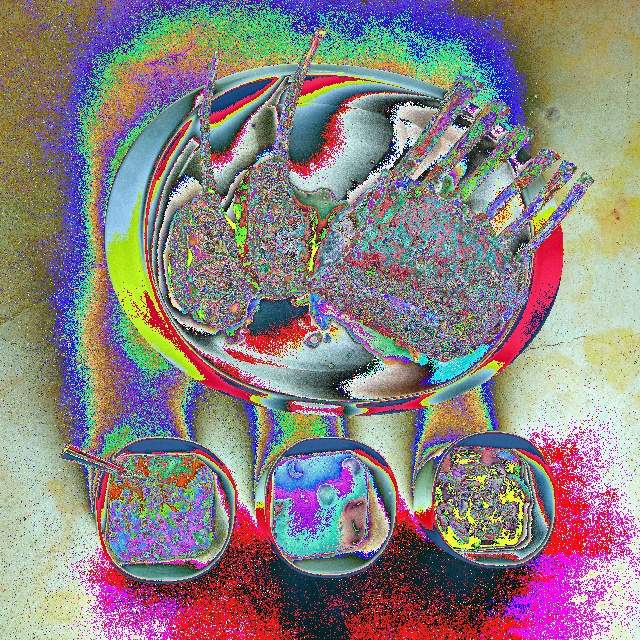background: (96, 103, 530, 551), (168, 28, 594, 361), (95, 108, 368, 559), (107, 109, 215, 562)
